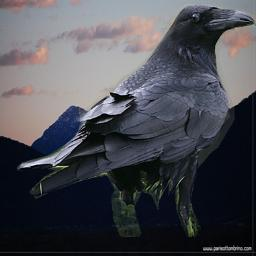Crow: (16, 4, 256, 237)
